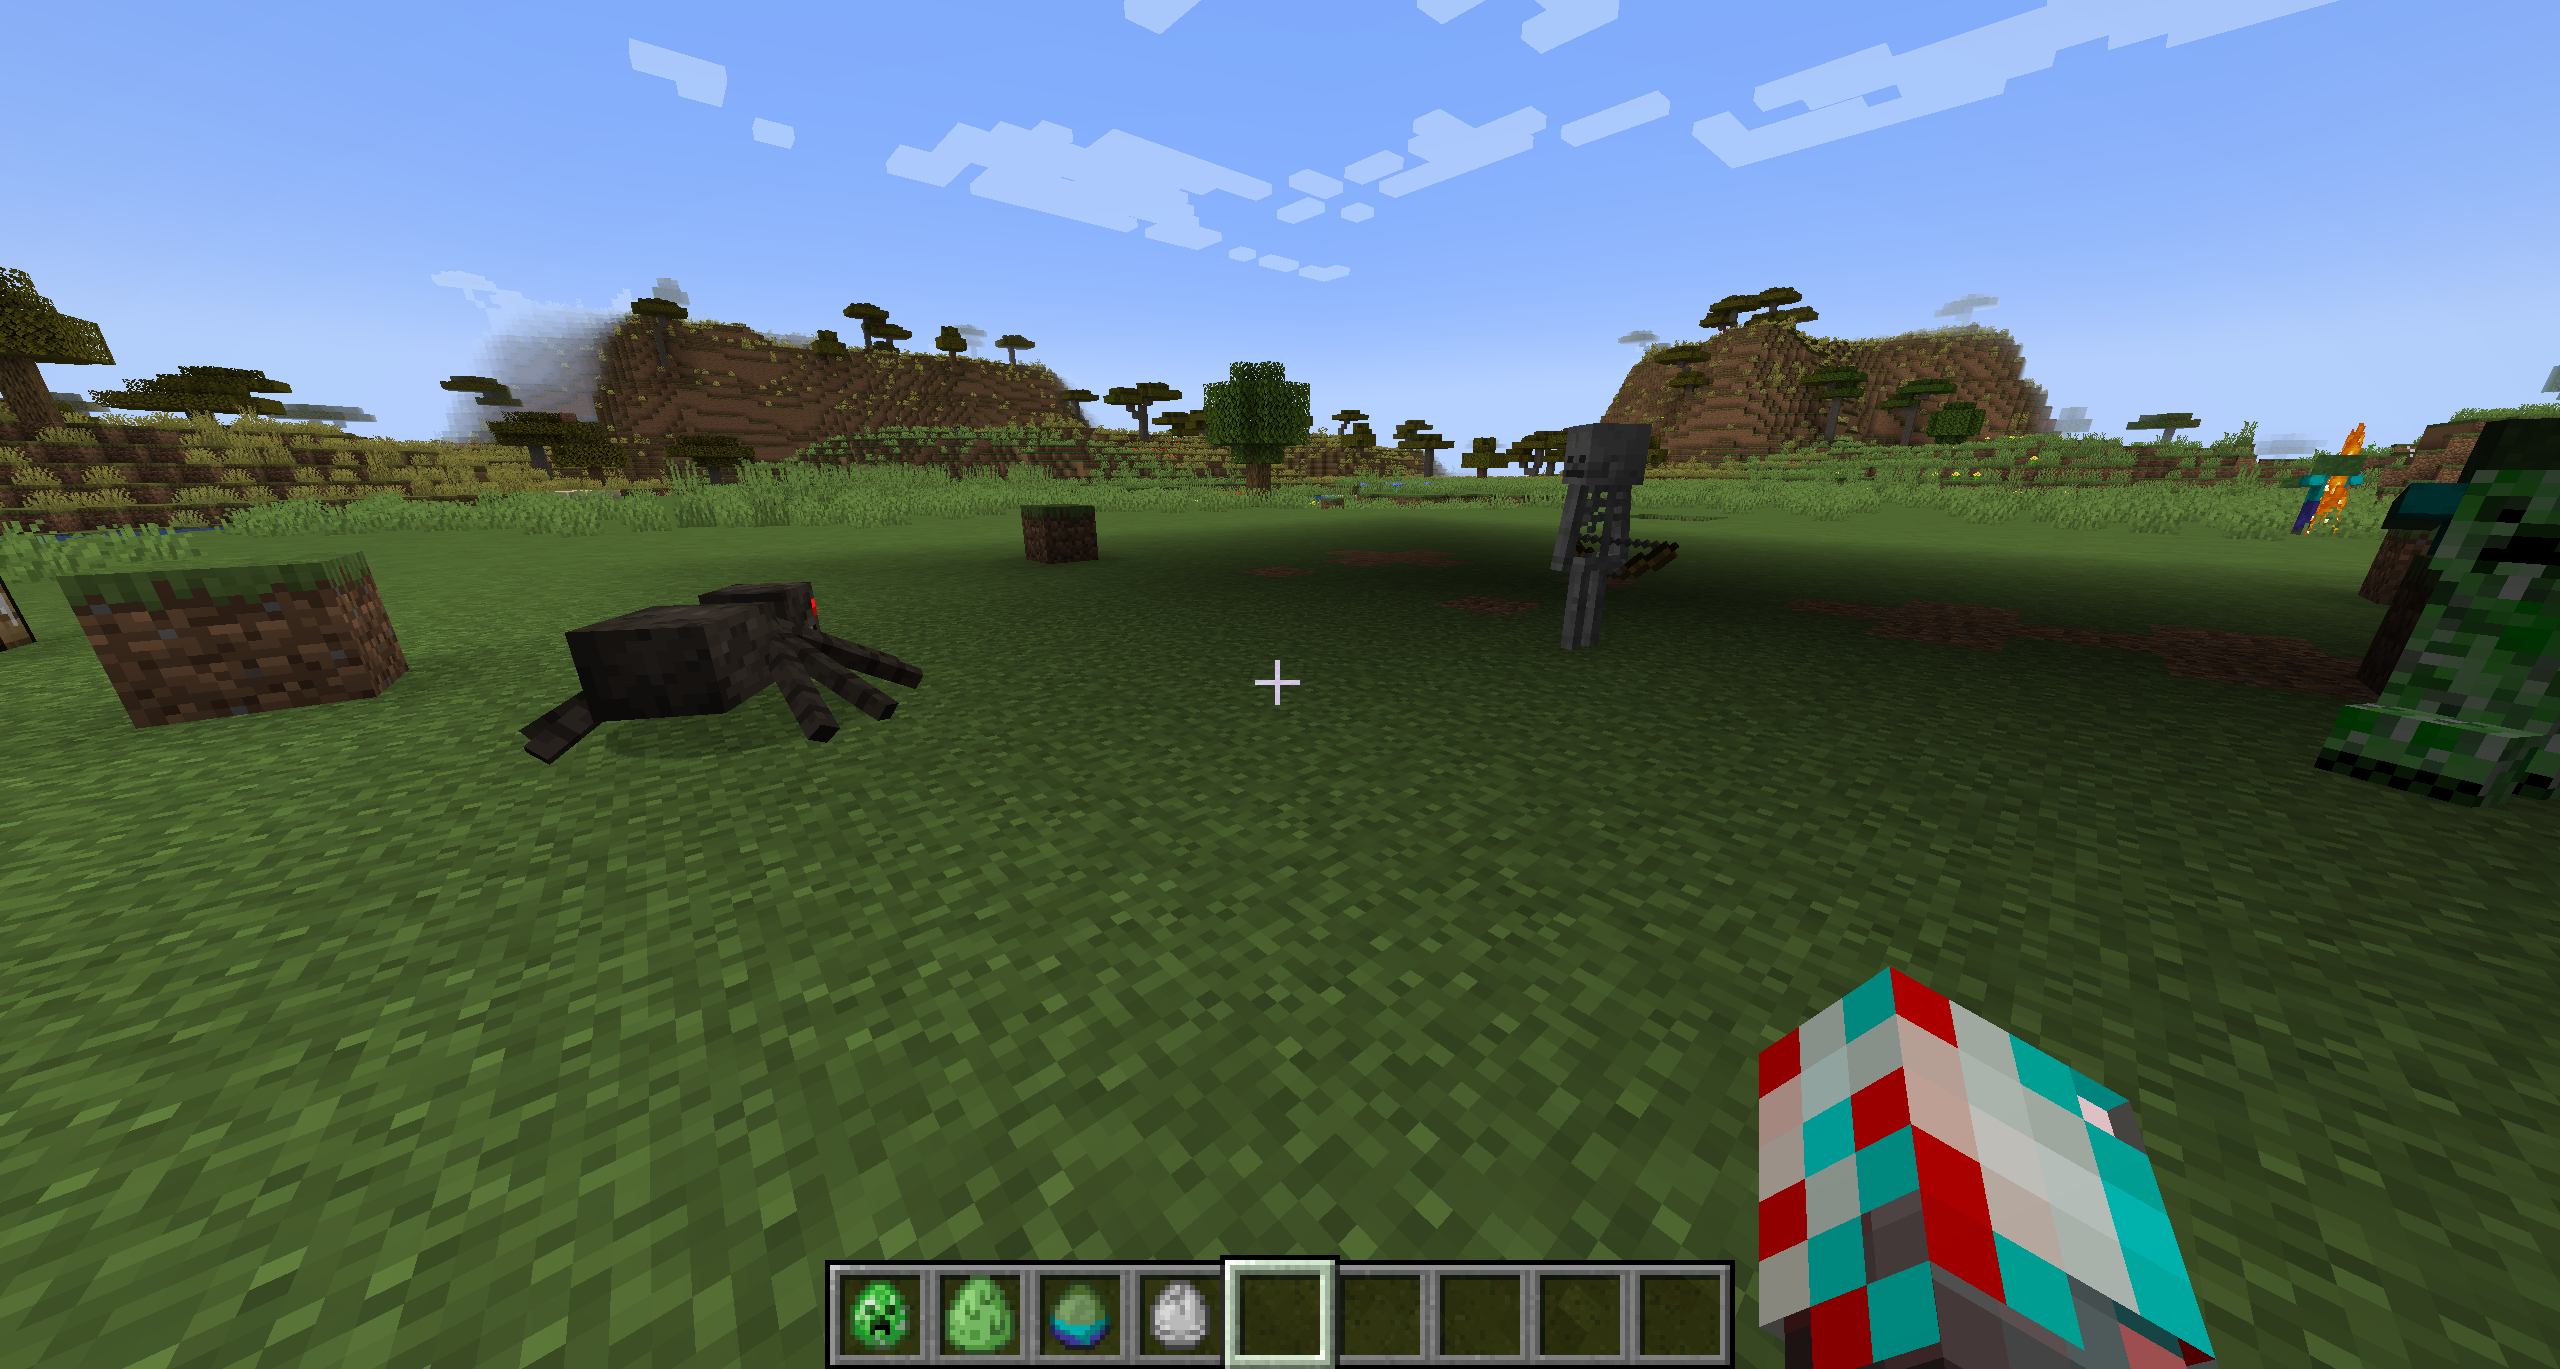araignees: (566, 579, 874, 761)
creepers: (2401, 477, 2560, 787)
squelettes: (1556, 423, 1649, 657)
zombies: (2299, 450, 2360, 542)
